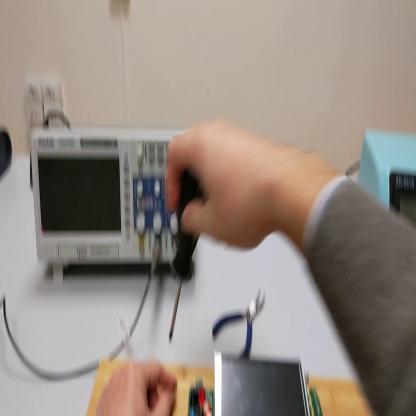hand: (165, 120, 279, 255), (99, 360, 177, 415)
low voltage board: (187, 350, 323, 416)
oscilloscope: (31, 130, 187, 284)
pliers: (214, 286, 269, 363)
screwdriver-: (170, 170, 204, 352)
socket: (2, 129, 16, 181), (30, 130, 35, 190)
welder station: (358, 128, 415, 225)
working area: (87, 356, 375, 413)
